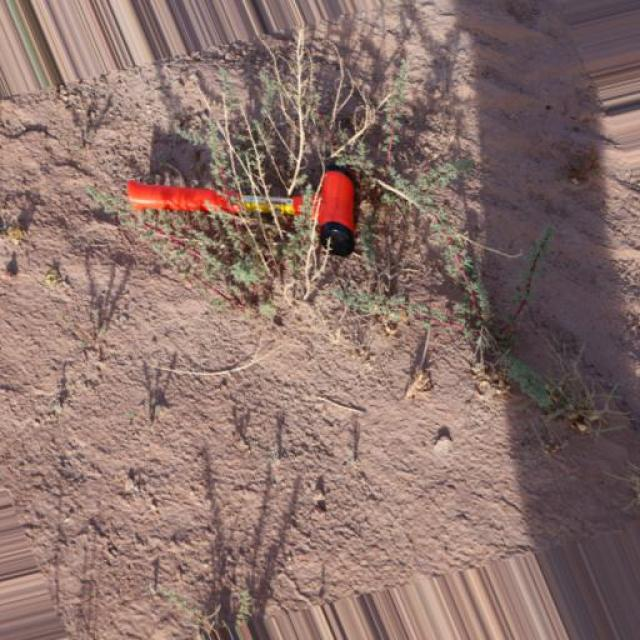mallet: (124, 162, 361, 258)
